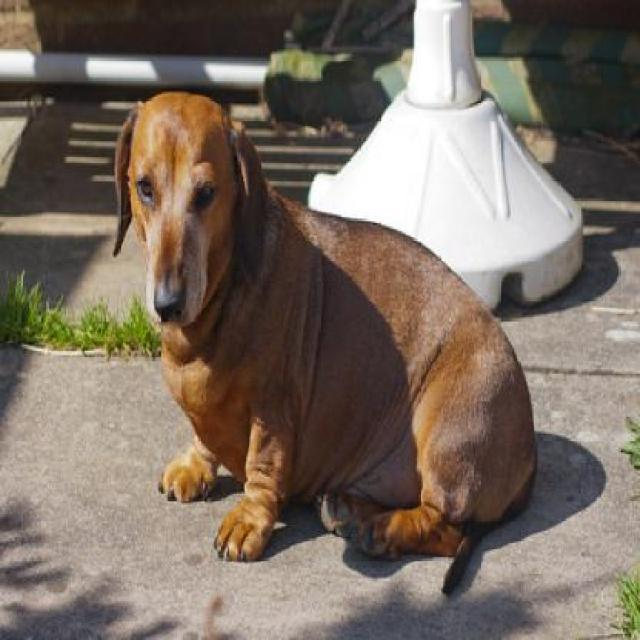Dog: (111, 92, 537, 606)
